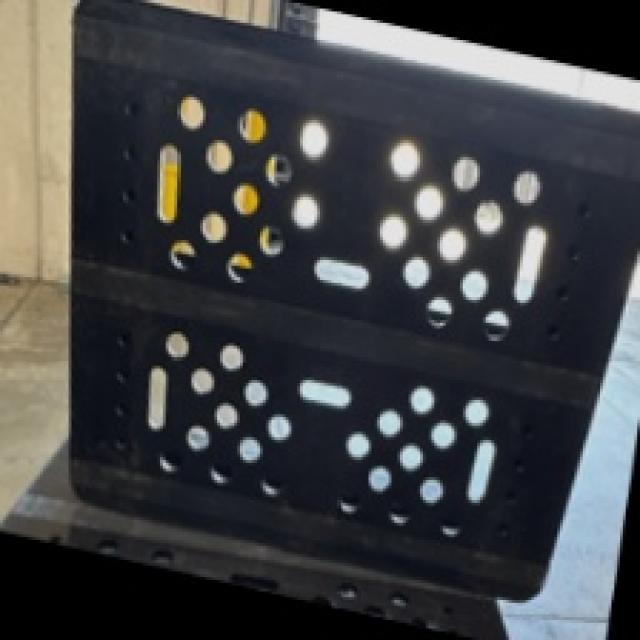igps: (57, 0, 640, 608)
